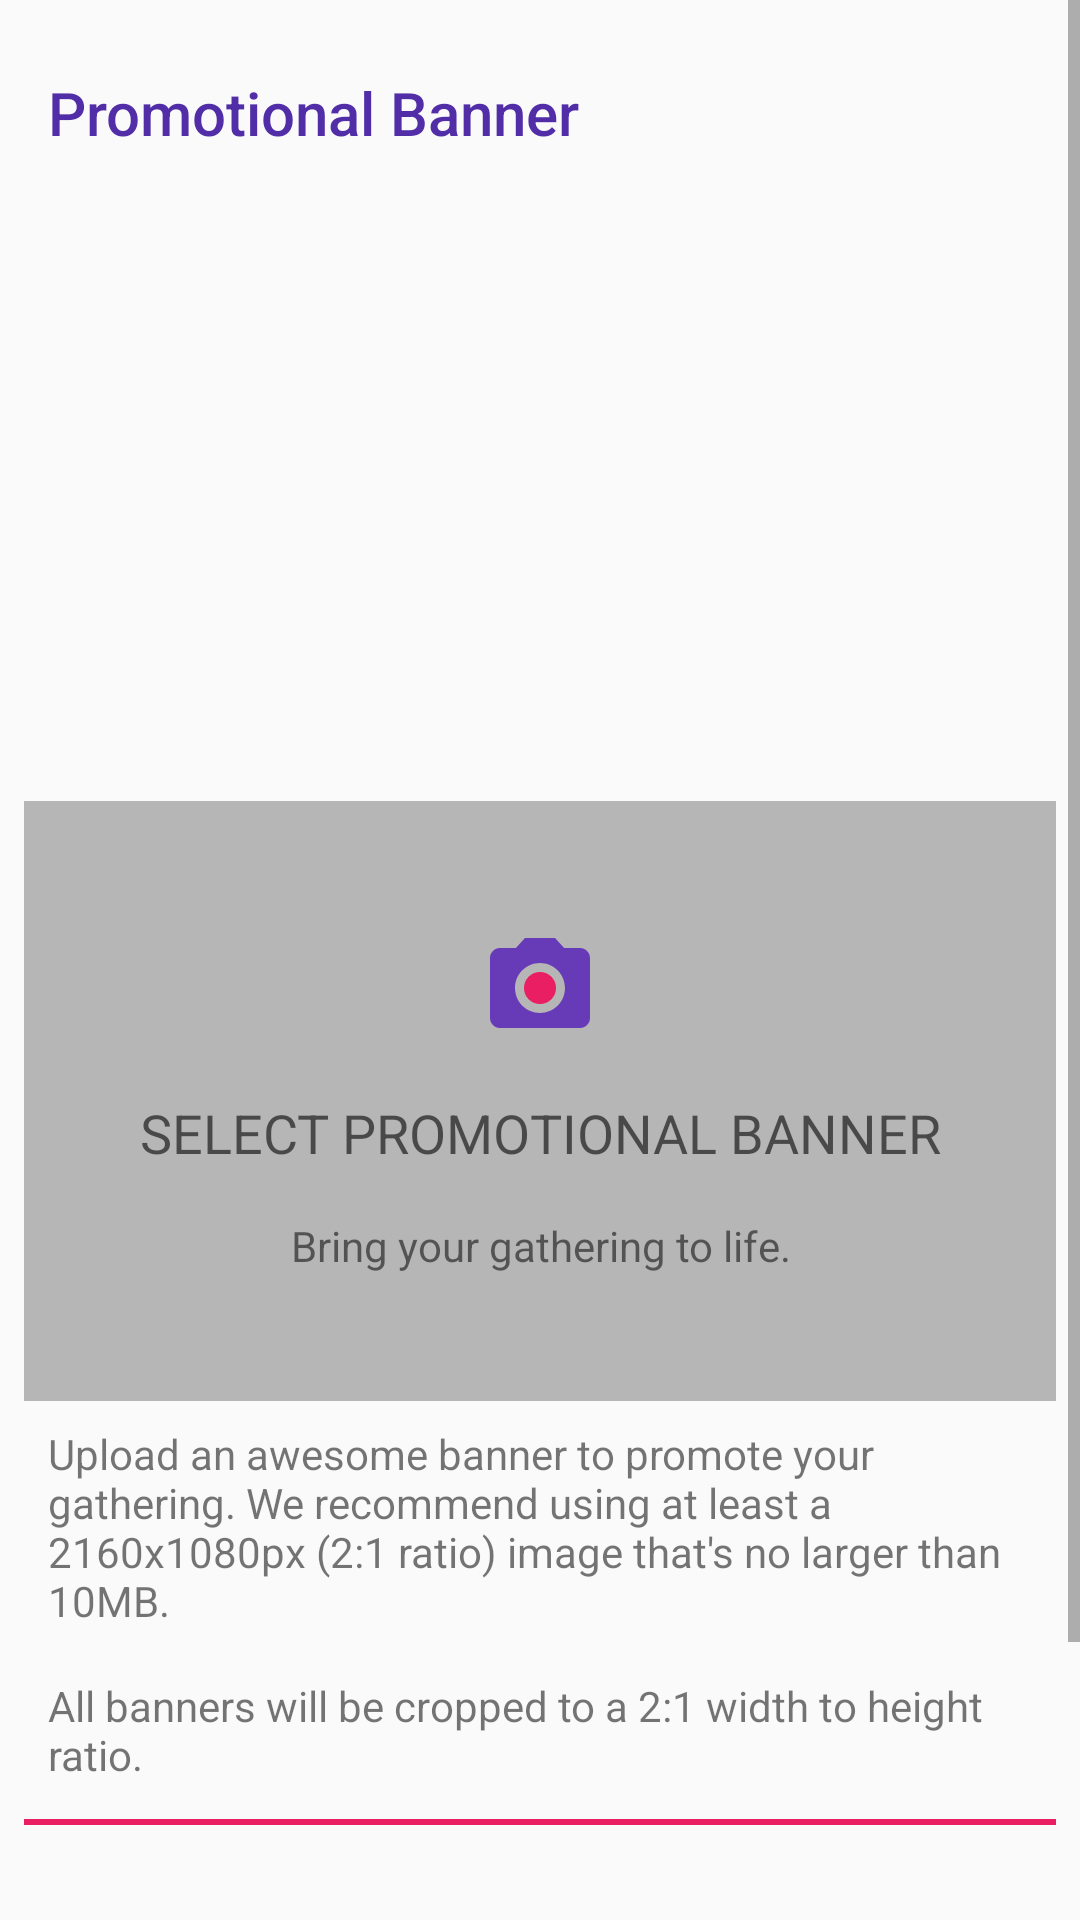

Icons on this 1080 × 1920 Android screen, each with its box as (x1, y1, x2, y2):
Camera Icon: (490, 938, 590, 1028)
